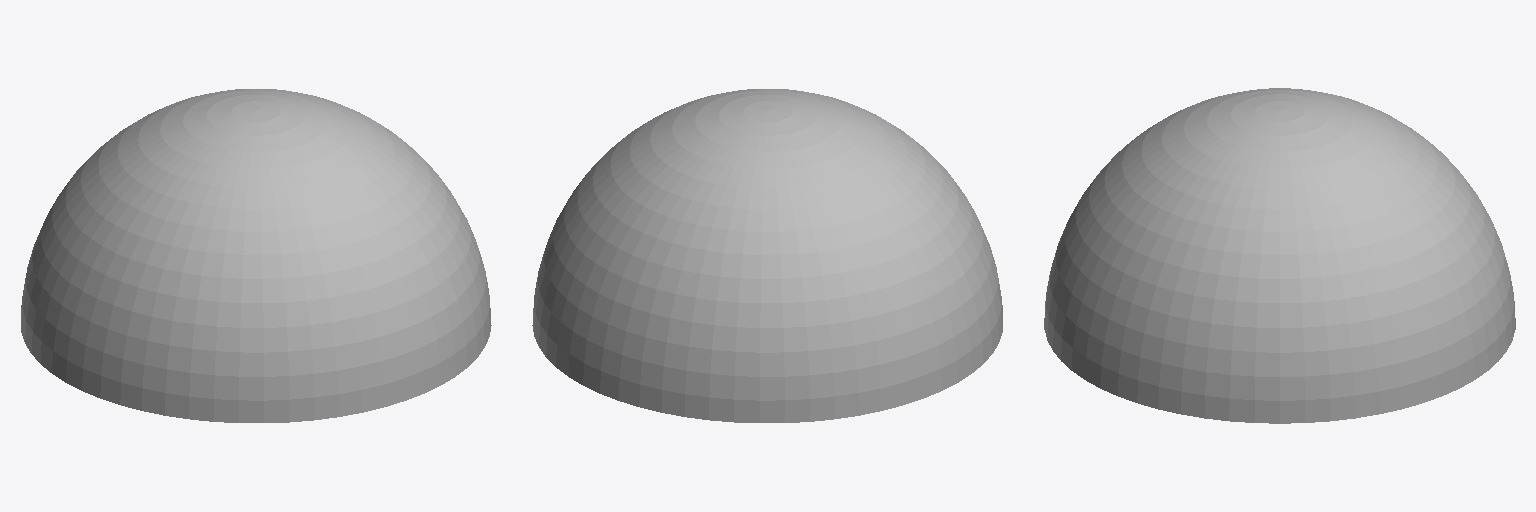
The robot description file, URDF, robot "root":
<robot name="root">
  <link name="link_half sphere_convex_piece_0">
    <inertial>
      <origin xyz="0 0 0" rpy="0 0 0"/>
      <mass value="2.01E-01"/>
      <inertia ixx="1.30E-04" ixy="-8.49E-22" ixz="-9.34E-22" iyy="1.30E-04" iyz="3.40E-22" izz="2.00E-04"/>
    </inertial>
    <visual>
      <origin xyz="0 0 0" rpy="0 0 0"/>
      <geometry>
        <mesh filename="half sphere_convex_piece_0.obj" scale="1.0000E+00 1.0000E+00 1.0000E+00"/>
      </geometry>
      <material name="">
        <color rgba="7.50E-01 7.50E-01 7.50E-01 1"/>
      </material>
    </visual>
    <collision>
      <origin xyz="0 0 0" rpy="0 0 0"/>
      <geometry>
        <mesh filename="half sphere_convex_piece_0.obj" scale="1.0000E+00 1.0000E+00 1.0000E+00"/>
      </geometry>
    </collision>
  </link>
</robot>

--- Render facts (derived) ---
Views: 3 orthographic renders of the robot side by side, from view 1: azimuth 30°, elevation 25°; view 2: azimuth 150°, elevation 25°; view 3: azimuth 270°, elevation 25°.
Model root with 1 links and 0 joints (none), rooted at link_half sphere_convex_piece_0, posed all joints at 0.
Links seen in each view (by area): view 1: link_half sphere_convex_piece_0; view 2: link_half sphere_convex_piece_0; view 3: link_half sphere_convex_piece_0.
Boxes of the visible links, <box> form: link_half sphere_convex_piece_0: <box>21,89,491,422</box>; link_half sphere_convex_piece_0: <box>532,89,1002,422</box>; link_half sphere_convex_piece_0: <box>1044,88,1515,423</box>.
Size in the robot's own frame: 0.1 by 0.0999 by 0.05 metres.
Meshes: 1 distinct files referenced, 1 mesh visuals loaded (1 OBJ).
